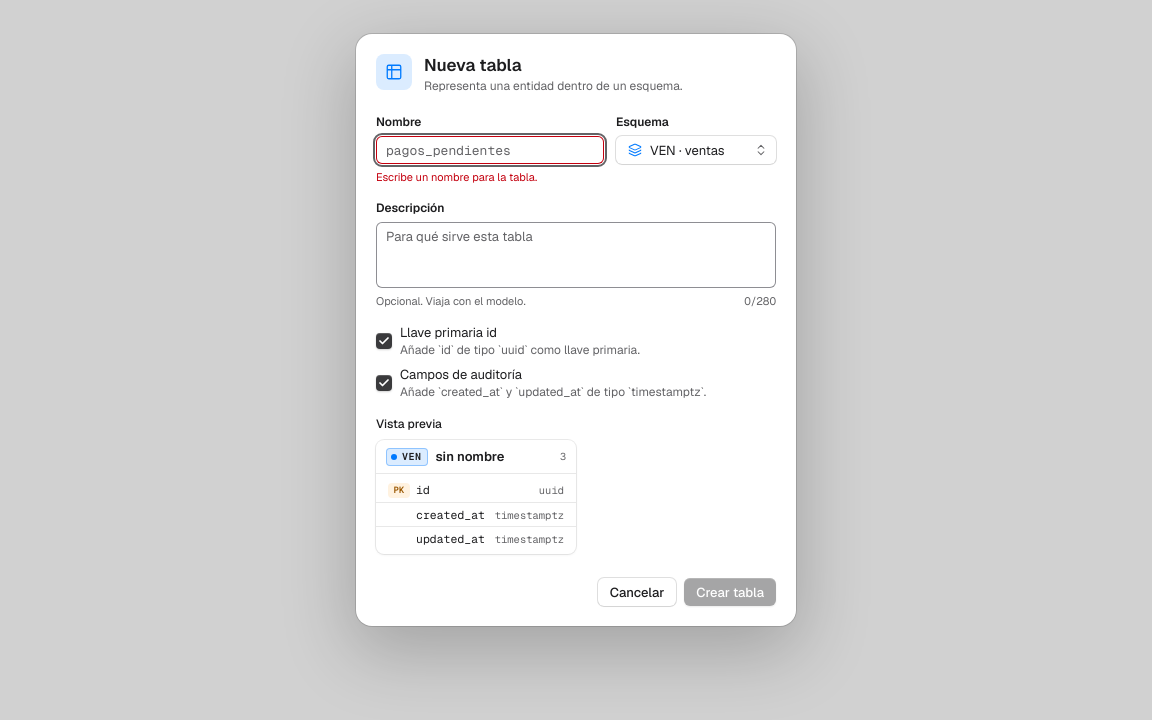
it: TableDialog › dice cómo quedará el nombre si lo que se escribe no es técnico (FR-003)
In the field labelled "Nombre": (490, 150) [384,136,596,164], type "Pagos pendientes"
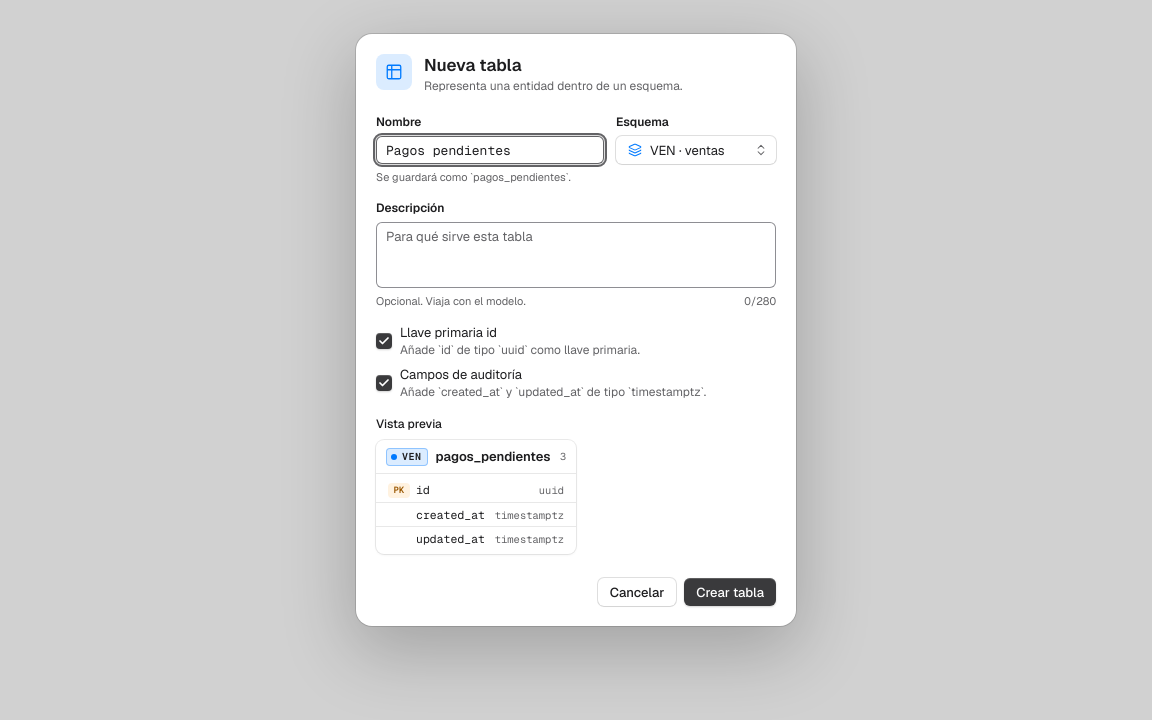
Expected: the text "Se guardará como `pagos_pendientes`." is shown, [376,170,604,184]
